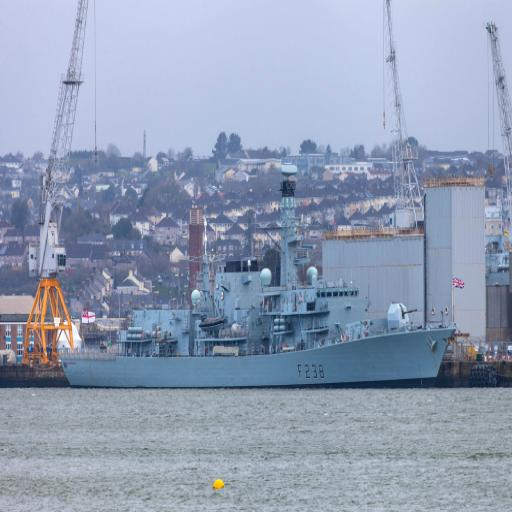Fragata: (58, 194, 459, 393)
